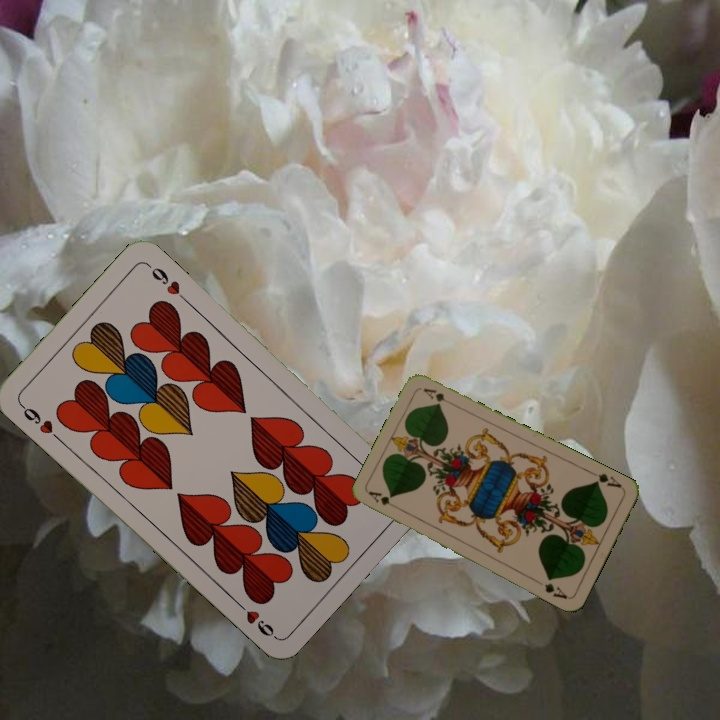GA: (365, 487, 403, 513), (590, 469, 624, 491)
H9: (16, 399, 63, 444)
